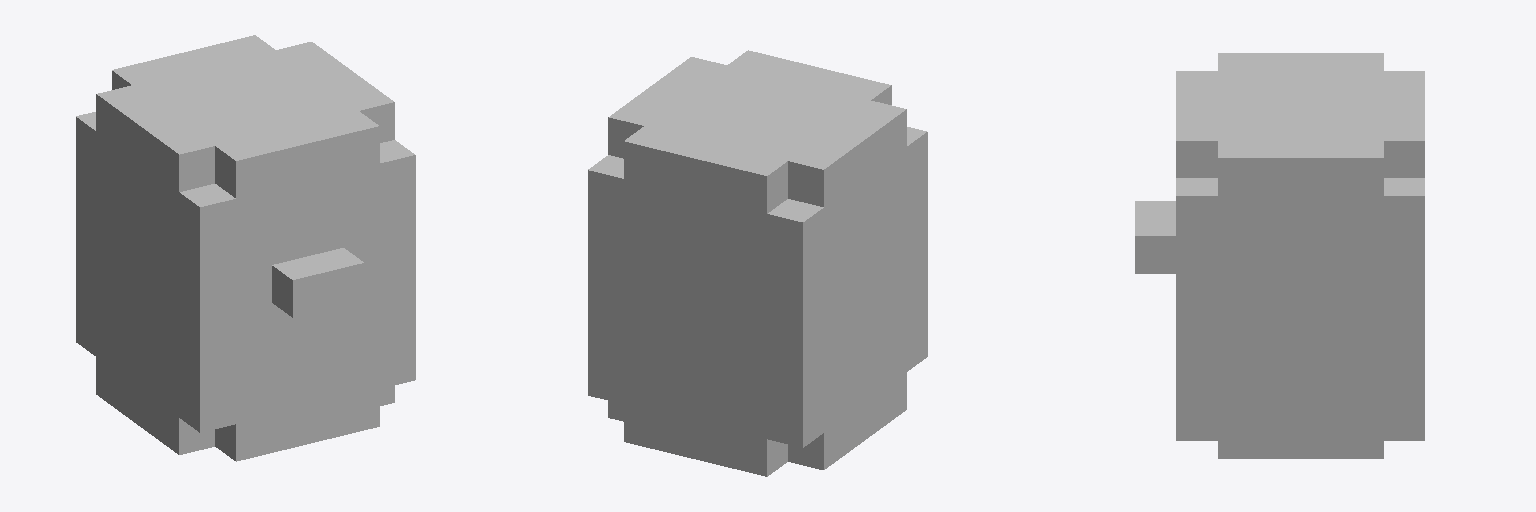
File: obj_human.obj
The picture shows the model from 3 angles: view 1: azimuth 30°, elevation 25°; view 2: azimuth 150°, elevation 25°; view 3: azimuth 270°, elevation 25°; orthographic projection.
Visible parts, largest first — view 1: obj_human; view 2: obj_human; view 3: obj_human.
Boxes of the visible parts, box(x1,y1,x2,y2) form: obj_human: box(76, 35, 415, 461); obj_human: box(588, 50, 927, 476); obj_human: box(1135, 53, 1424, 458).
Bounding box in the file's own units: 6 × 8 × 7.